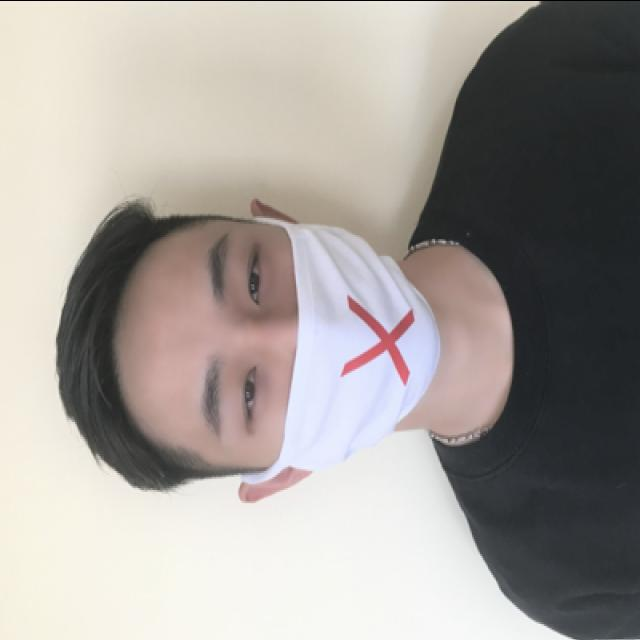with_mask: (196, 219, 442, 472)
